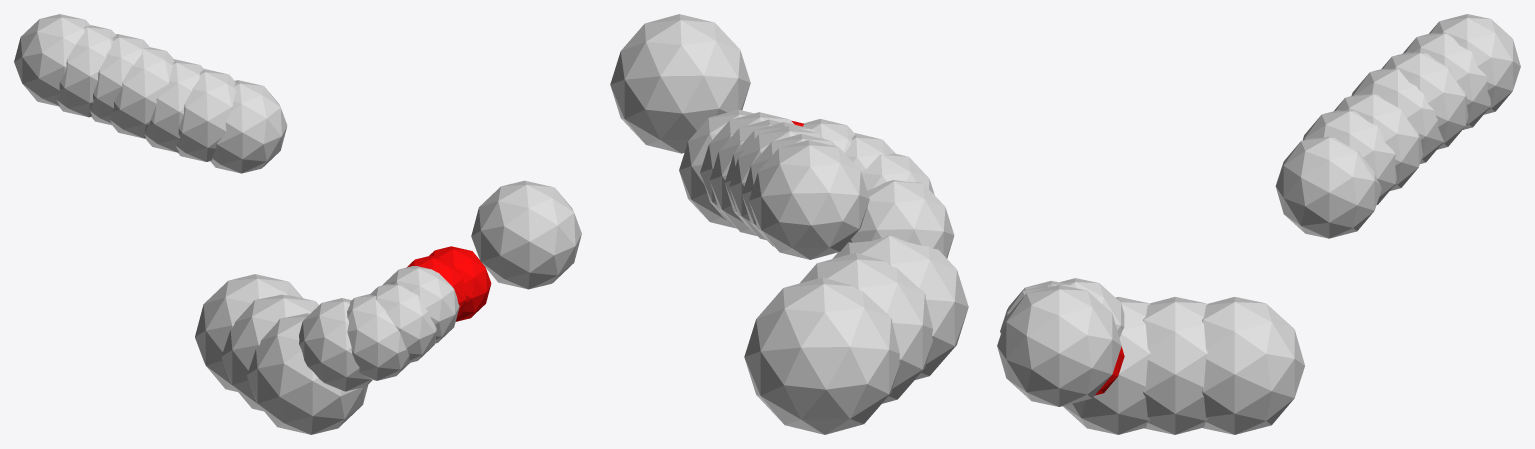
Rendered from point-categorization.gltf.
The picture shows the model from 3 angles, left to right: view 1: azimuth 30°, elevation 25°; view 2: azimuth 150°, elevation 25°; view 3: azimuth 270°, elevation 25°; orthographic projection. The views are drawn at different scales.
Visible parts, largest first — view 1: closed, open.002, locked, locked.004, open.008, open.003, open.001, open.004, locked.003, locked.002, locked.001, locked.006 (+5 smaller); view 2: open.008, closed, locked.004, open.001, open.002, open.003, locked, locked.005, locked.006, open.004, locked.003, locked.001 (+3 smaller); view 3: closed, open.008, locked, open.001, open.002, locked.004, locked.005, locked.003, locked.006, locked.002, locked.001, open.003.
Part boxes in pixels (bbox=[...]): closed: bbox=[471, 180, 581, 289]; open.002: bbox=[246, 313, 368, 434]; locked: bbox=[210, 80, 287, 173]; locked.004: bbox=[14, 14, 90, 106]; open.008: bbox=[195, 274, 302, 391]; open.003: bbox=[299, 298, 372, 391]; open.001: bbox=[221, 294, 318, 411]; open.004: bbox=[347, 294, 410, 380]; locked.003: bbox=[175, 69, 236, 161]; locked.002: bbox=[109, 47, 174, 138]; locked.001: bbox=[56, 25, 115, 117]; locked.006: bbox=[144, 59, 204, 152]; open.008: bbox=[744, 277, 899, 434]; closed: bbox=[610, 14, 750, 153]; locked.004: bbox=[749, 140, 869, 259]; open.001: bbox=[799, 252, 932, 403]; open.002: bbox=[832, 235, 968, 379]; open.003: bbox=[849, 180, 954, 258]; locked: bbox=[679, 109, 753, 228]; locked.005: bbox=[729, 126, 824, 240]; locked.006: bbox=[709, 119, 780, 236]; open.004: bbox=[861, 153, 934, 194]; locked.003: bbox=[700, 112, 794, 225]; locked.001: bbox=[742, 134, 836, 246]; closed: bbox=[997, 284, 1121, 406]; open.008: bbox=[1202, 297, 1304, 434]; locked: bbox=[1275, 137, 1381, 238]; open.001: bbox=[1143, 297, 1207, 434]; open.002: bbox=[1063, 297, 1150, 434]; locked.004: bbox=[1429, 14, 1520, 114]; locked.005: bbox=[1381, 52, 1468, 149]; locked.003: bbox=[1303, 110, 1396, 204]; locked.006: bbox=[1334, 94, 1422, 190]; locked.002: bbox=[1351, 68, 1443, 163]; locked.001: bbox=[1403, 33, 1491, 129]; open.003: bbox=[1059, 278, 1124, 337].
Bounding box in the file's own units: 84.27 × 70.29 × 92.42.
